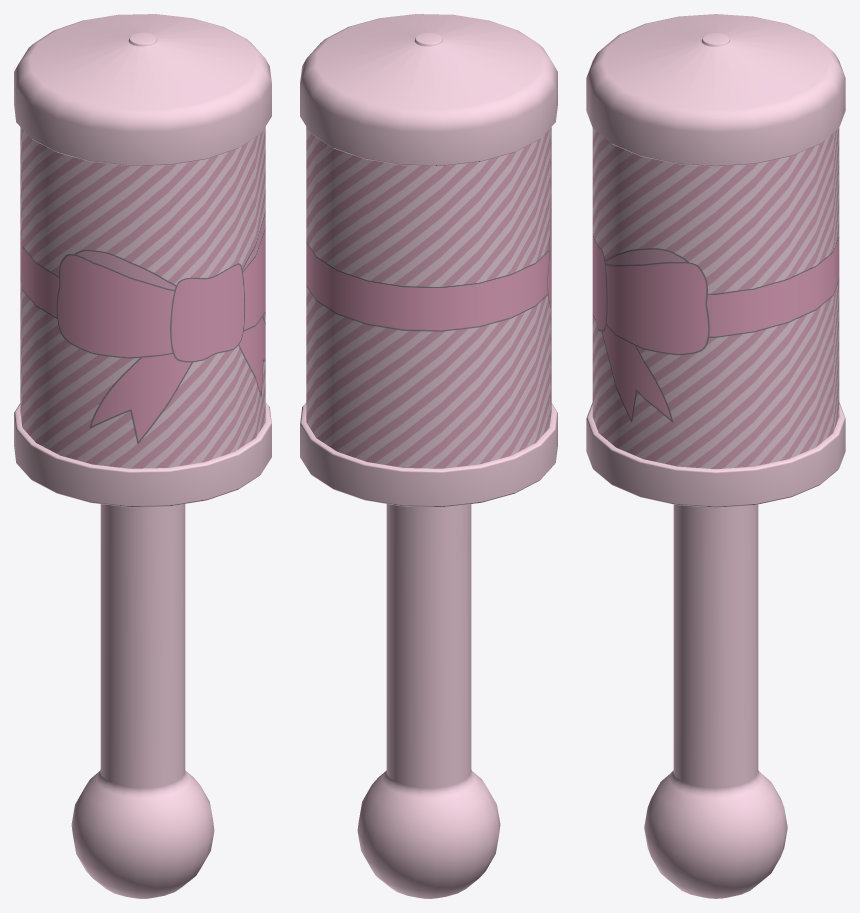
Rendered from rattle_pink.fbx.
3 views of the same model, side by side, from view 1: azimuth 30°, elevation 25°; view 2: azimuth 150°, elevation 25°; view 3: azimuth 270°, elevation 25° (orthographic).
Visible parts, largest first — view 1: Rattle_pink; view 2: Rattle_pink; view 3: Rattle_pink.
Part boxes in pixels (bbox=[...]): Rattle_pink: bbox=[14, 14, 271, 898]; Rattle_pink: bbox=[300, 14, 557, 898]; Rattle_pink: bbox=[586, 14, 845, 898].
Size of the model in its own units: 5.52 by 20.06 by 5.52.
1 material, 1 textured.
